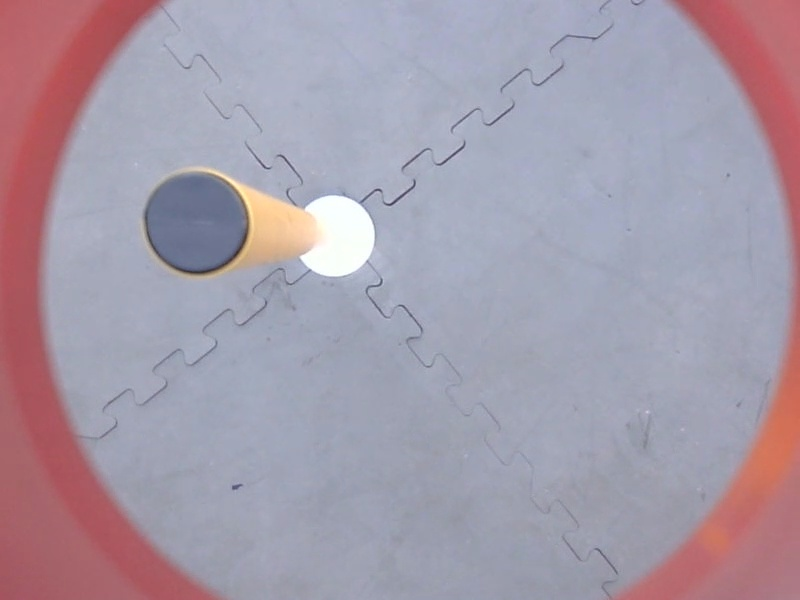tip: (135, 162, 261, 284)
